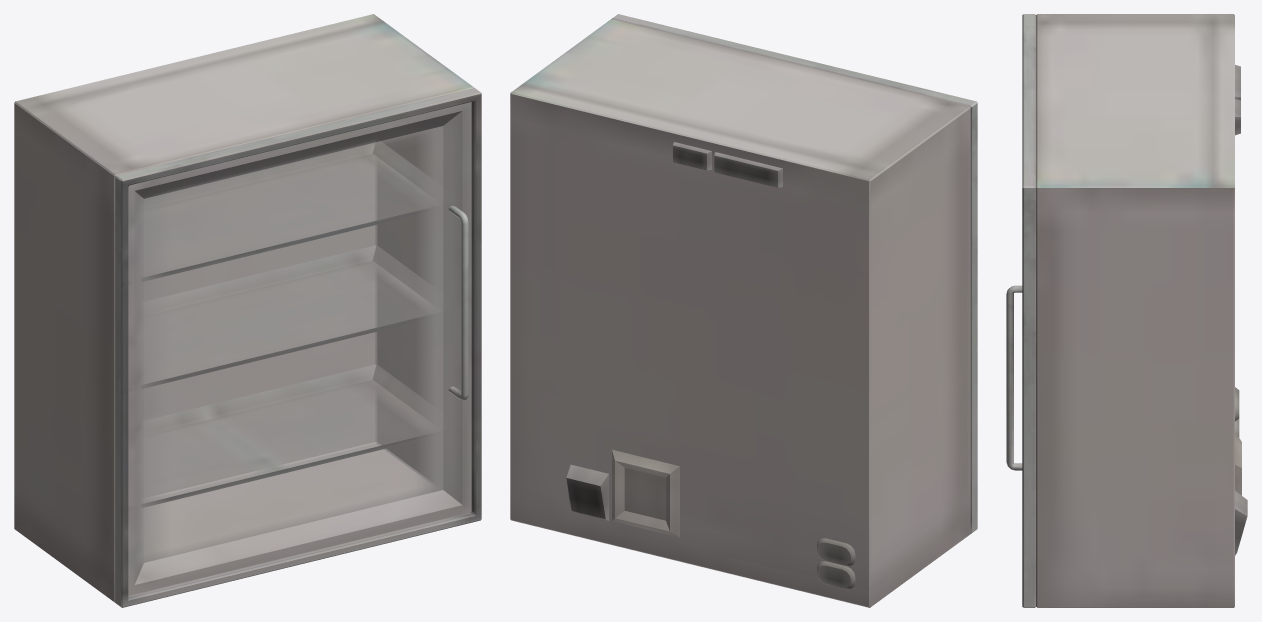
Rendered from ss-fridge.lod1.glb.
The picture shows the model from 3 angles, left to right: view 1: azimuth 30°, elevation 25°; view 2: azimuth 150°, elevation 25°; view 3: azimuth 270°, elevation 25°; orthographic projection.
Visible parts, largest first — view 1: general_store_furniture_fridge_general_store_furniture_0; view 2: general_store_furniture_fridge_general_store_furniture_0; view 3: general_store_furniture_fridge_general_store_furniture_0.
Part boxes in pixels (box(x1,y1,x2,y2)): general_store_furniture_fridge_general_store_furniture_0: box(14, 14, 481, 607); general_store_furniture_fridge_general_store_furniture_0: box(510, 14, 977, 607); general_store_furniture_fridge_general_store_furniture_0: box(1006, 14, 1247, 607).
Bounding box in the file's own units: 2.1 × 2.38 × 1.23.
1 material, 1 textured.
